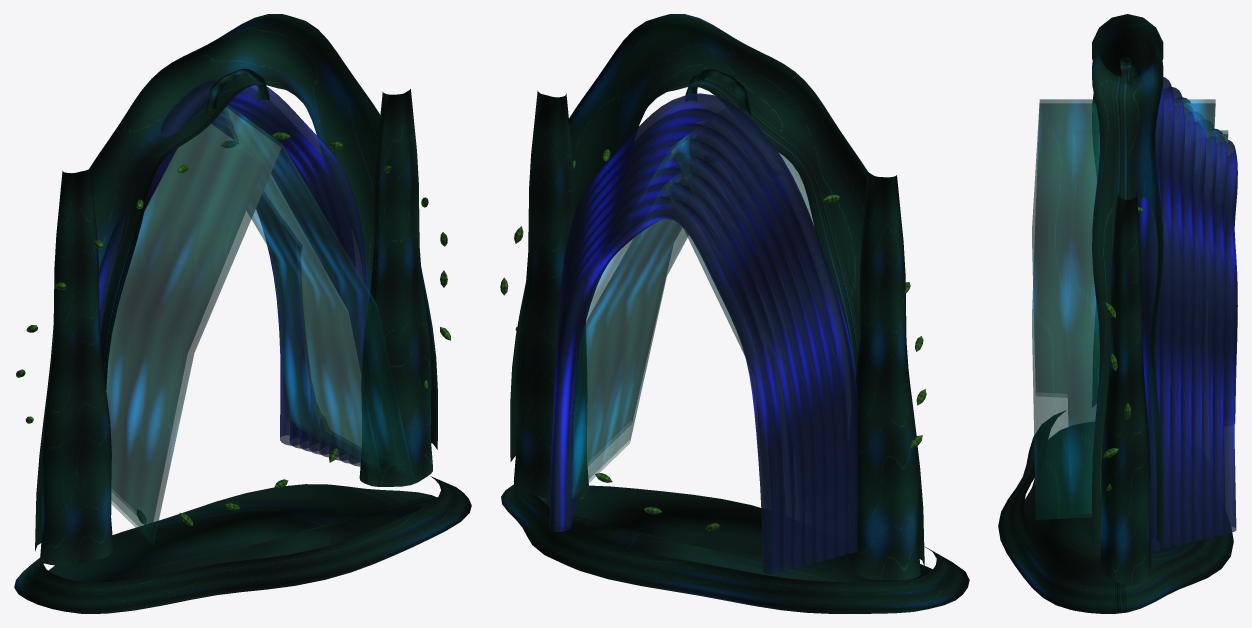
Rendered from portal-ring-master-v1.glb.
The picture shows the model from 3 angles, left to right: view 1: azimuth 30°, elevation 25°; view 2: azimuth 150°, elevation 25°; view 3: azimuth 270°, elevation 25°; orthographic projection. The views are drawn at different scales.
Parts seen in each view (by area): view 1: portal-membrane, portal-inner-veil, portal-threshold-stone, portal-architectural-arch, portal-pillar-left, portal-pillar-right, portal-depth-1, portal-depth-2, portal-depth-8, portal-depth-3, portal-depth-7, portal-depth-6 (+3 smaller); view 2: portal-architectural-arch, portal-threshold-stone, portal-pillar-left, portal-inner-veil, portal-pillar-right, portal-depth-8, portal-depth-7, portal-membrane, portal-depth-1, portal-depth-2, portal-depth-3, portal-depth-4 (+3 smaller); view 3: portal-membrane, portal-architectural-arch, portal-threshold-stone, portal-pillar-right, portal-inner-veil, portal-depth-3, portal-depth-4, portal-depth-5, portal-depth-6, portal-depth-8, portal-depth-7, portal-depth-2 (+1 smaller).
Boxes of the visible parts, x1,y1,x2,y2 form: portal-membrane: (106, 104, 413, 544); portal-inner-veil: (106, 124, 380, 529); portal-threshold-stone: (14, 476, 471, 613); portal-architectural-arch: (35, 14, 437, 551); portal-pillar-left: (40, 167, 113, 565); portal-pillar-right: (359, 89, 432, 486); portal-depth-1: (99, 80, 368, 466); portal-depth-2: (147, 87, 358, 463); portal-depth-8: (256, 196, 299, 445); portal-depth-3: (221, 102, 348, 460); portal-depth-7: (262, 192, 309, 448); portal-depth-6: (221, 130, 318, 451); portal-architectural-arch: (510, 14, 924, 566); portal-threshold-stone: (501, 484, 969, 613); portal-pillar-left: (845, 172, 920, 580); portal-inner-veil: (565, 176, 771, 551); portal-pillar-right: (513, 90, 589, 500); portal-depth-8: (549, 196, 783, 574); portal-depth-7: (551, 182, 794, 571); portal-membrane: (573, 123, 813, 474); portal-depth-1: (554, 93, 857, 553); portal-depth-2: (554, 108, 848, 556); portal-depth-3: (553, 123, 837, 559); portal-depth-4: (553, 138, 826, 562); portal-membrane: (1032, 99, 1215, 519); portal-architectural-arch: (1092, 14, 1163, 547); portal-threshold-stone: (998, 410, 1233, 613); portal-pillar-right: (1100, 192, 1151, 584); portal-inner-veil: (1067, 130, 1228, 513); portal-depth-3: (1161, 87, 1184, 546); portal-depth-4: (1171, 97, 1195, 543); portal-depth-5: (1182, 112, 1205, 541); portal-depth-6: (1192, 119, 1216, 538); portal-depth-8: (1213, 139, 1237, 533); portal-depth-7: (1203, 128, 1227, 535); portal-depth-2: (1149, 77, 1174, 549).
Bounding box in the file's own units: 5.6 × 6.31 × 2.72.
Materials: 4 (4 with a texture image).
